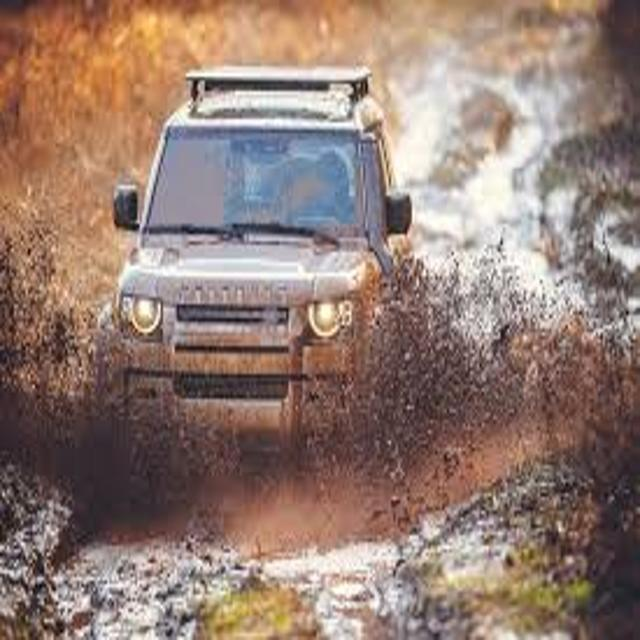car: (95, 67, 414, 465)
